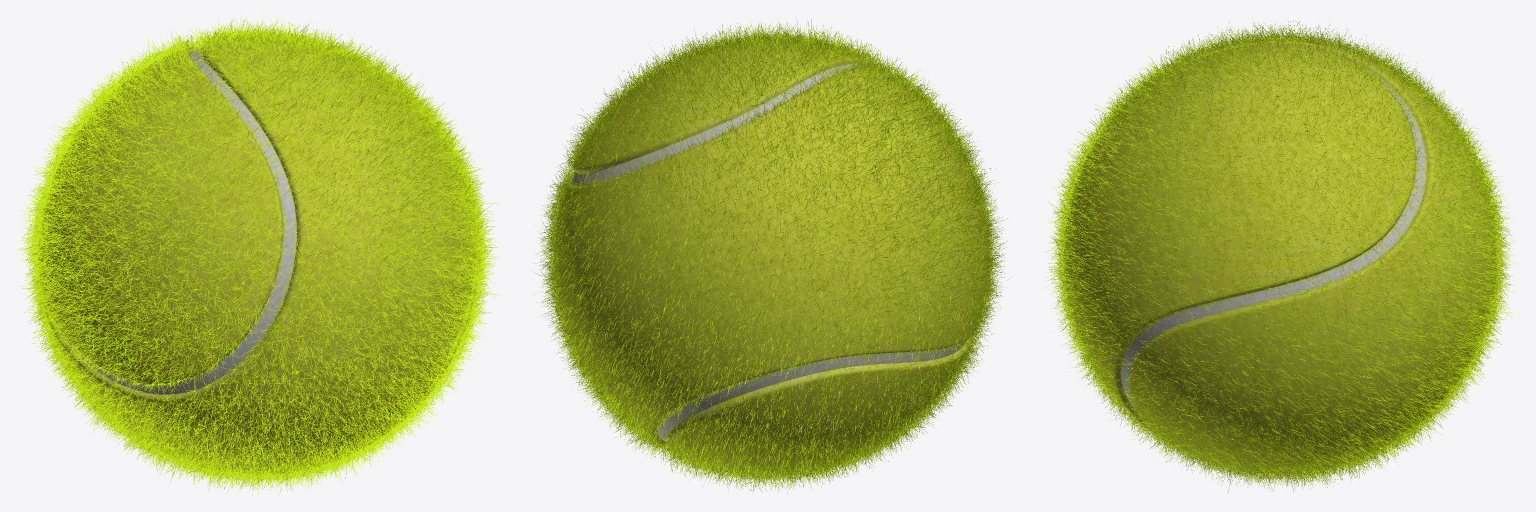
Rendered from final_tennis_ball_2_f50.glb.
3 renders of one model, left to right at view 1: azimuth 30°, elevation 25°; view 2: azimuth 150°, elevation 25°; view 3: azimuth 270°, elevation 25°, orthographic.
Parts seen in each view (by area): view 1: Object_2; view 2: Object_2; view 3: Object_2.
Part boxes in pixels (x1,y1,x2,y2): Object_2: (18,14,498,496); Object_2: (534,17,1008,493); Object_2: (1045,21,1519,492).
Size of the model in its own units: 0.067 by 0.0668 by 0.0668.
2 materials, 1 textured.
